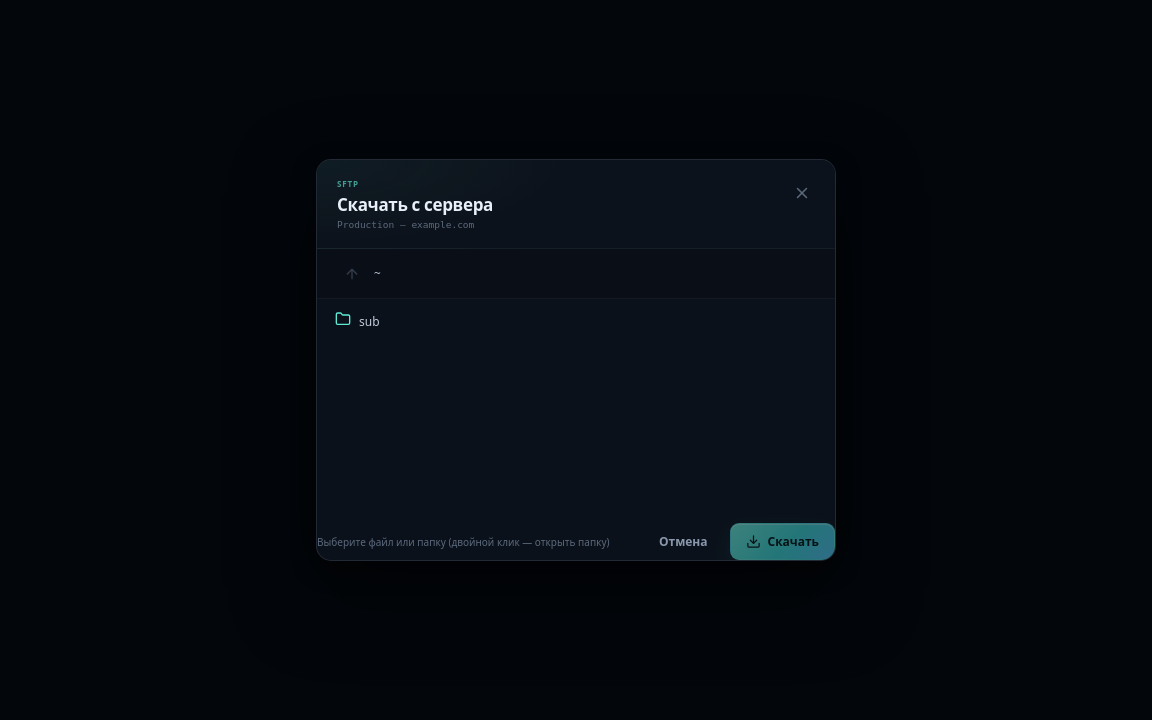
FileTransferDialog › открывает папку двойным кликом и поднимается наверх
This screenshot has width=1152, height=720.
Double-click the text "sub": {"x": 369, "y": 321} [359,312,380,330]
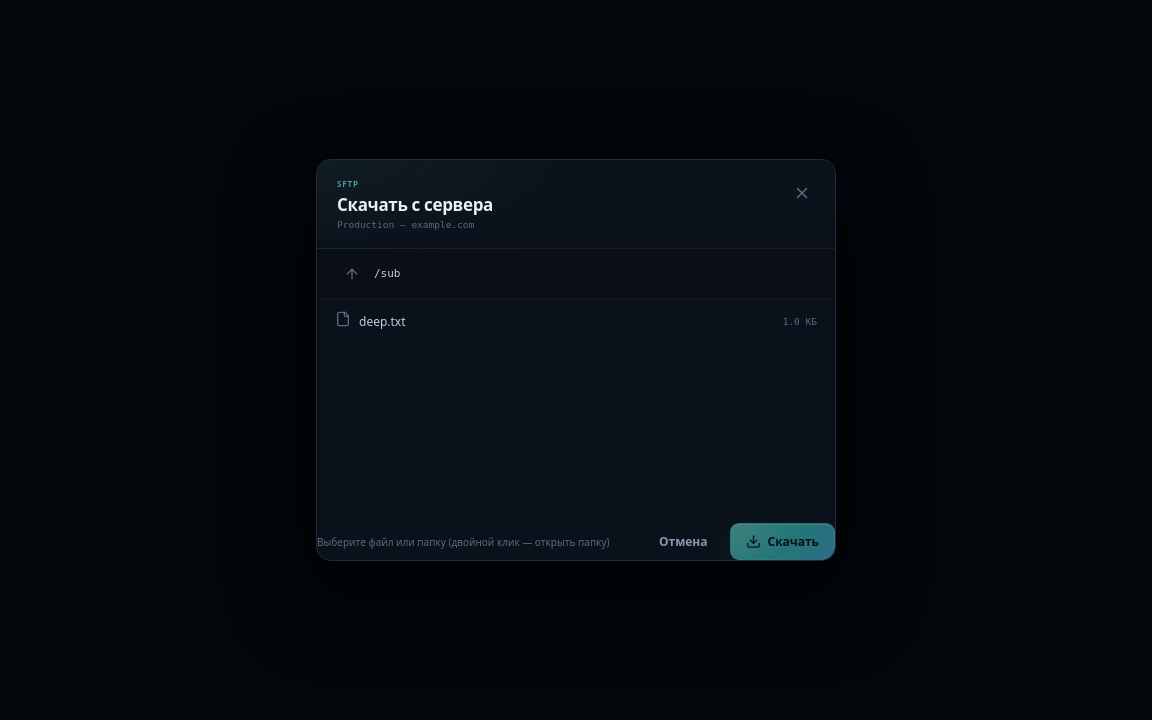
Now the text "deep.txt" is shown, box [359,312,406,330]
Click the 2nd button: {"x": 352, "y": 274} [337,259,366,288]
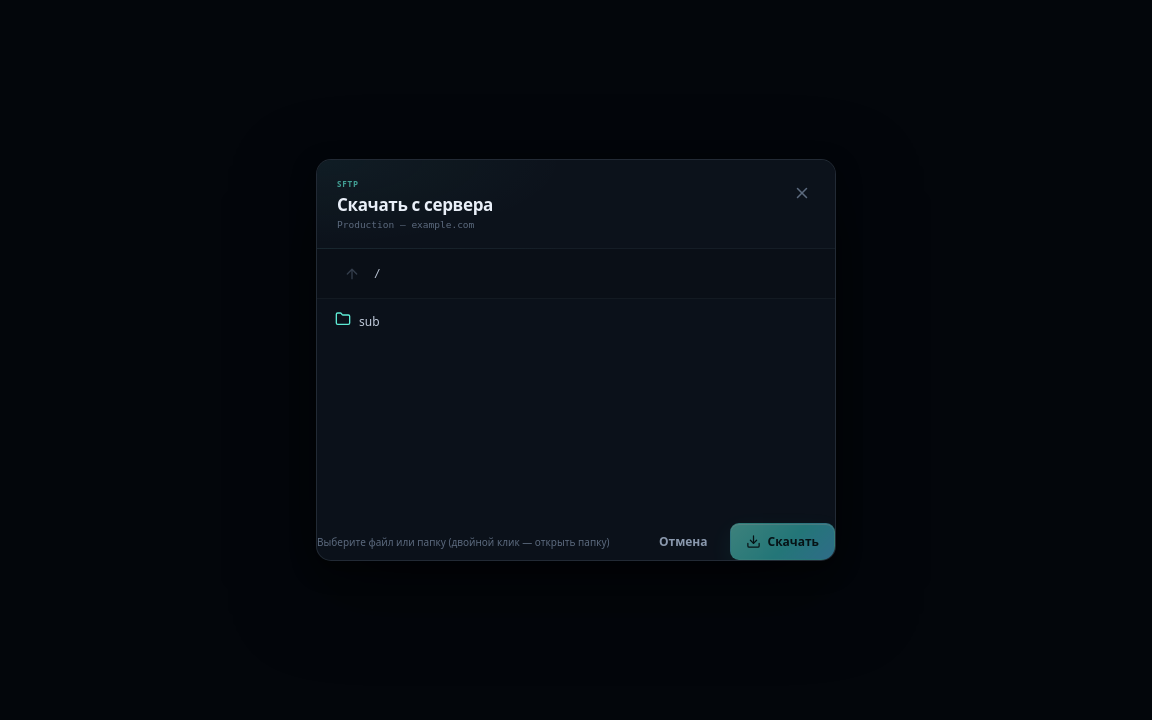
Now the text "sub" is shown, box [359,312,380,330]
